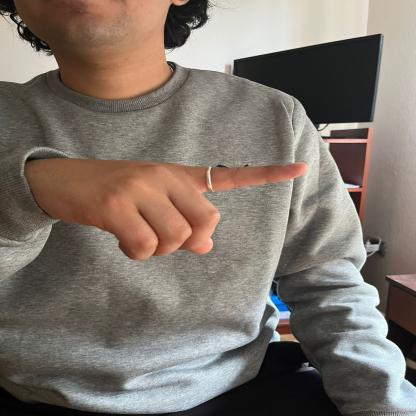S: (30, 142, 310, 262)
